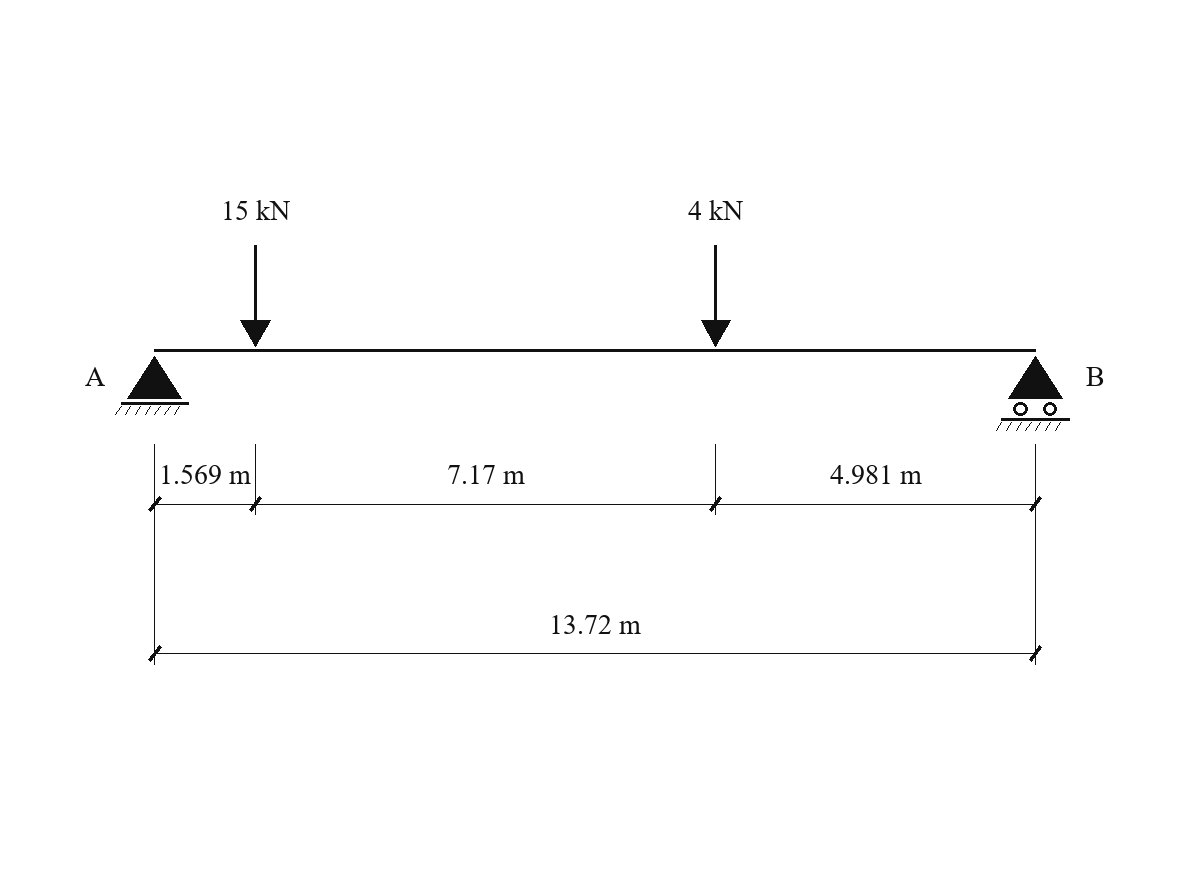pin_support: (115, 356, 189, 415)
point_load: (240, 245, 271, 347), (701, 245, 731, 347)
roller_support: (996, 356, 1070, 431)
